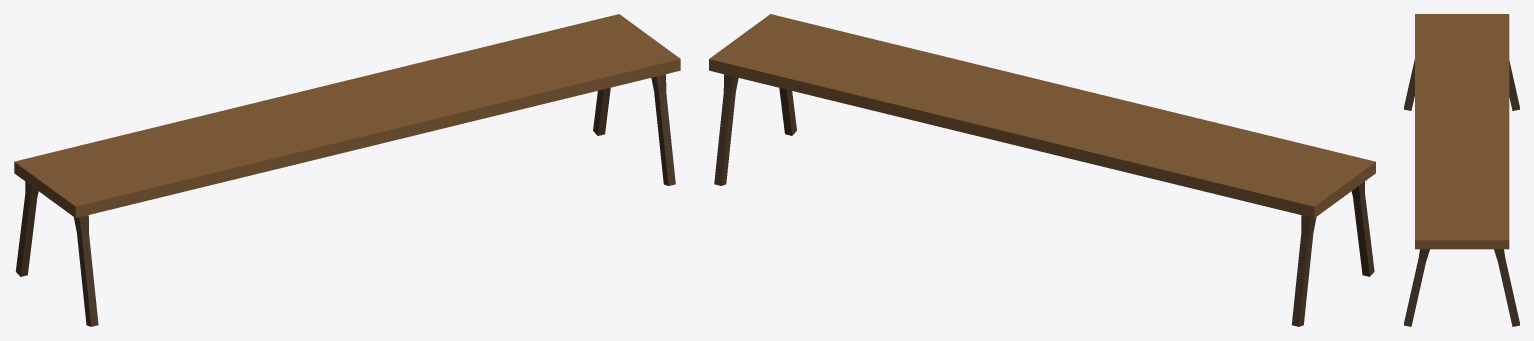
Rendered from OldBench.glb.
The picture shows the model from 3 angles, left to right: view 1: azimuth 30°, elevation 25°; view 2: azimuth 150°, elevation 25°; view 3: azimuth 270°, elevation 25°; orthographic projection. The views are drawn at different scales.
Parts seen in each view (by area): view 1: OldBench2; view 2: OldBench2; view 3: OldBench2.
Part boxes in pixels (box(x1,y1,x2,y2)): OldBench2: box(14, 14, 680, 326); OldBench2: box(709, 14, 1375, 326); OldBench2: box(1404, 14, 1519, 326).
Bounding box in the file's own units: 4.38 × 0.8229 × 0.9478.
Materials: 1 (1 with a texture image).
